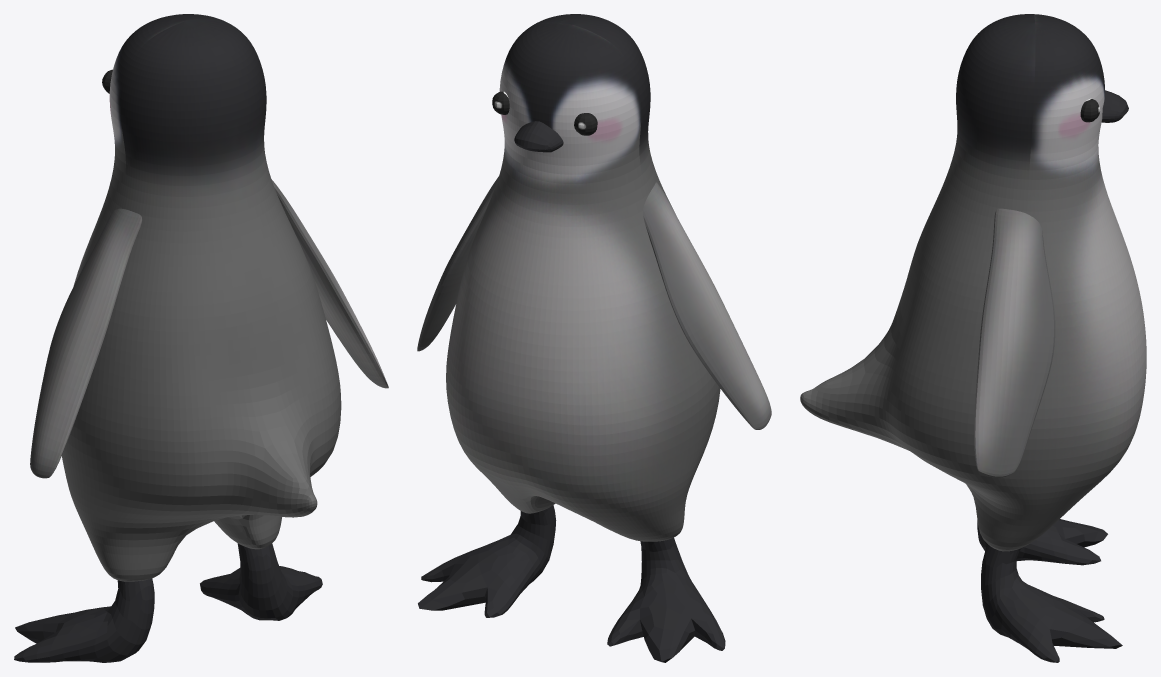
The model's file is Pen.glb.
3 renders of one model, left to right at view 1: azimuth 30°, elevation 25°; view 2: azimuth 150°, elevation 25°; view 3: azimuth 270°, elevation 25°, orthographic. The views are drawn at different scales.
Parts seen in each view (by area): view 1: back_sample_mesh, back_sample_mesh.003; view 2: back_sample_mesh, back_sample_mesh.003, back_sample_mesh.002, back_sample_mesh.001; view 3: back_sample_mesh, back_sample_mesh.003, back_sample_mesh.002.
Boxes of the visible parts, <box> form: back_sample_mesh: <box>30,14,388,581</box>; back_sample_mesh.003: <box>14,543,322,662</box>; back_sample_mesh: <box>417,14,771,541</box>; back_sample_mesh.003: <box>418,505,725,662</box>; back_sample_mesh.002: <box>514,121,563,152</box>; back_sample_mesh.001: <box>492,91,597,135</box>; back_sample_mesh: <box>800,14,1146,551</box>; back_sample_mesh.003: <box>977,519,1122,662</box>; back_sample_mesh.002: <box>1101,90,1128,122</box>.
Size of the model in its own units: 4.3 by 7.1 by 3.87.
1 material, 1 textured.
